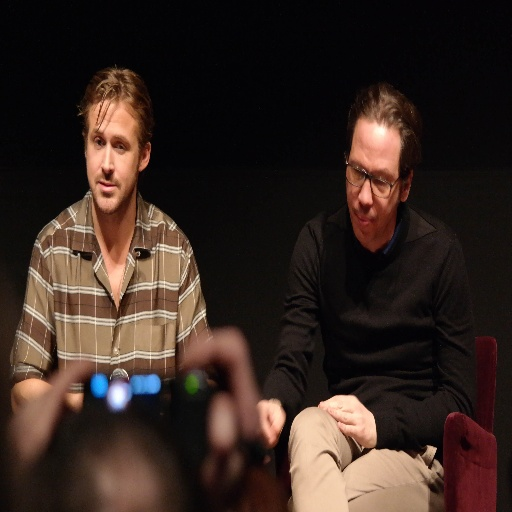hand: (176, 321, 262, 511), (3, 359, 94, 511), (316, 403, 387, 442), (256, 398, 288, 451)
